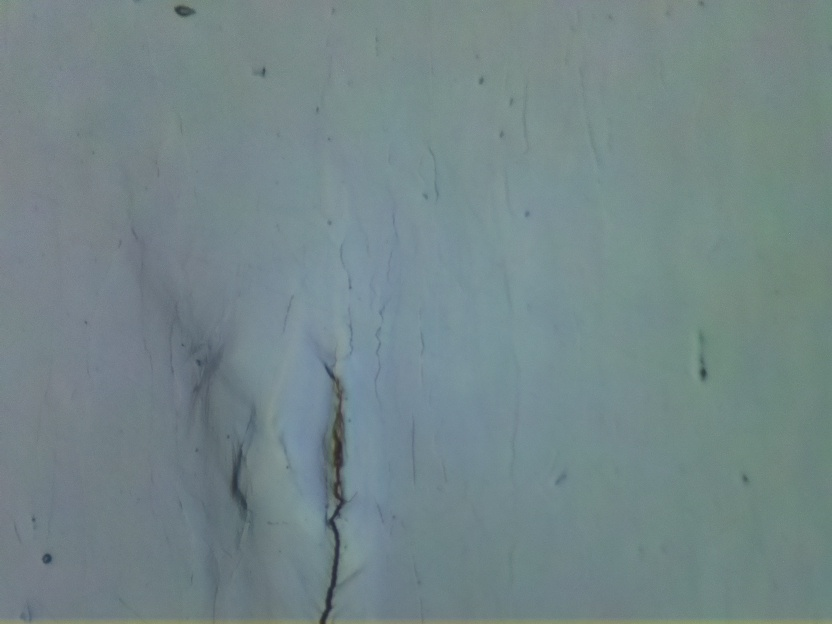crack: (317, 364, 352, 624)
